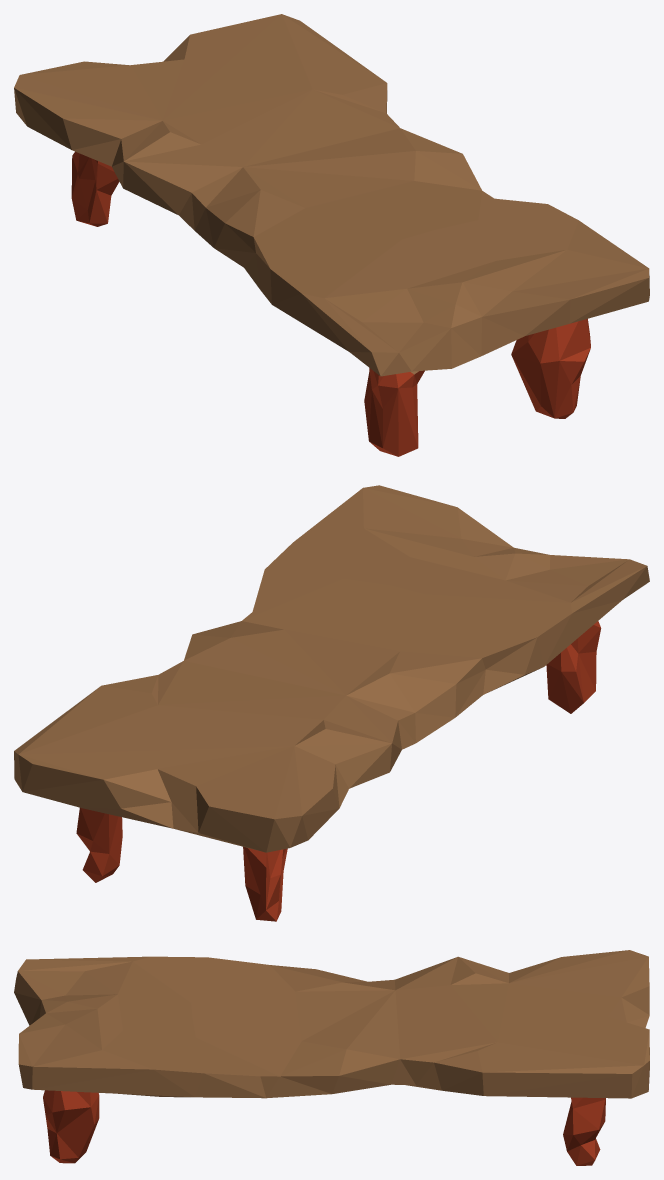
File: seat.fbx
3 renders of one model, top to bottom at view 1: azimuth 30°, elevation 25°; view 2: azimuth 150°, elevation 25°; view 3: azimuth 270°, elevation 25°, orthographic. The views are drawn at different scales.
Parts seen in each view (by area): view 1: Cube; view 2: Cube; view 3: Cube.
Part boxes in pixels (box(x1,y1,x2,y2)): Cube: box(14, 14, 649, 456); Cube: box(14, 485, 649, 921); Cube: box(14, 950, 649, 1165).
Size of the model in its own units: 170 by 83.44 by 379.
